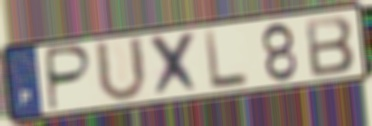8: (259, 22, 299, 83)
B: (302, 13, 357, 79)
L: (202, 27, 251, 92)
P: (46, 43, 95, 113)
U: (93, 35, 150, 105)
X: (147, 29, 203, 100)
